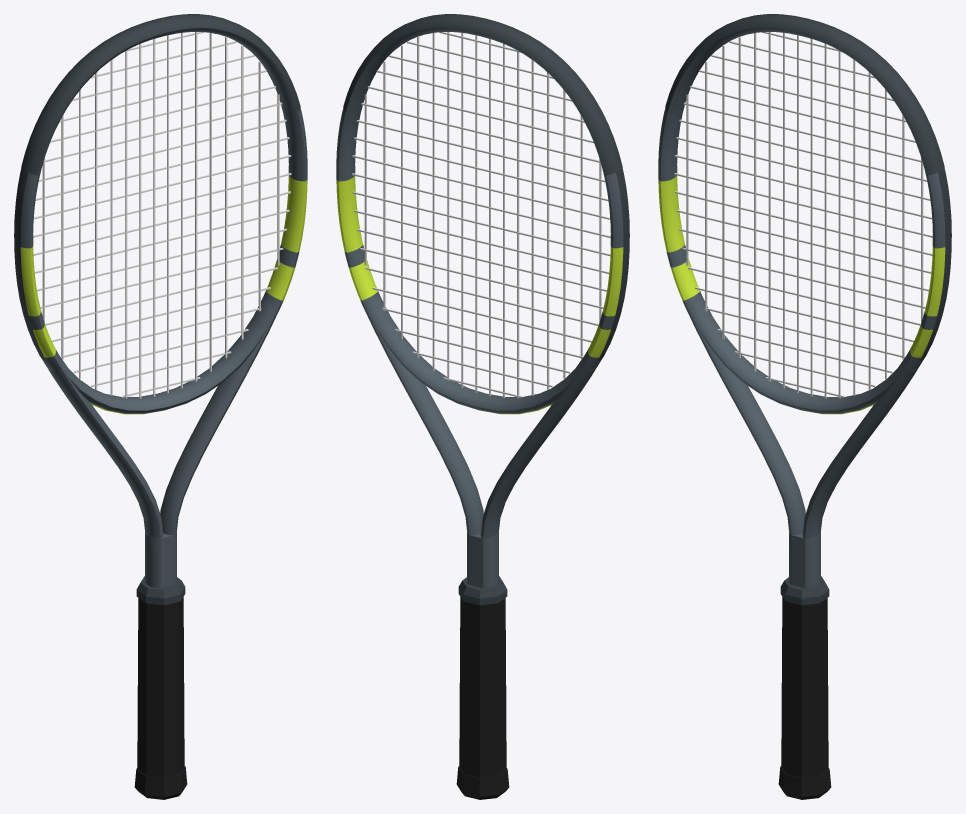
The model's file is babolat-pure-aero-98-2026.glb.
3 renders of one model, left to right at view 1: azimuth 30°, elevation 25°; view 2: azimuth 150°, elevation 25°; view 3: azimuth 330°, elevation 25°, orthographic.
Visible parts, largest first — view 1: frame, strings_mains, strings_crosses, grip, bumper, grommets, butt_cap, collar; view 2: frame, strings_mains, strings_crosses, grip, bumper, grommets, butt_cap, collar; view 3: frame, strings_mains, strings_crosses, grip, bumper, grommets, butt_cap, collar.
Boxes of the visible parts, left/top/right/bottom form: frame: left=14, top=28, right=307, bottom=588; strings_mains: left=42, top=32, right=279, bottom=398; strings_crosses: left=33, top=32, right=291, bottom=397; grip: left=137, top=597, right=184, bottom=777; bumper: left=21, top=14, right=300, bottom=175; grommets: left=14, top=168, right=45, bottom=360; butt_cap: left=134, top=766, right=187, bottom=799; collar: left=136, top=576, right=185, bottom=605; frame: left=336, top=28, right=629, bottom=588; strings_mains: left=364, top=32, right=601, bottom=398; strings_crosses: left=352, top=32, right=610, bottom=397; grip: left=459, top=597, right=506, bottom=777; bumper: left=343, top=14, right=622, bottom=175; grommets: left=598, top=168, right=629, bottom=360; butt_cap: left=456, top=766, right=509, bottom=799; collar: left=458, top=576, right=507, bottom=605; frame: left=658, top=28, right=951, bottom=588; strings_mains: left=686, top=32, right=923, bottom=398; strings_crosses: left=674, top=32, right=932, bottom=397; grip: left=781, top=597, right=828, bottom=777; bumper: left=665, top=14, right=944, bottom=175; grommets: left=920, top=168, right=951, bottom=360; butt_cap: left=778, top=766, right=831, bottom=799; collar: left=780, top=576, right=829, bottom=605.
Size of the model in its own units: 0.2693 by 0.6861 by 0.0396.
